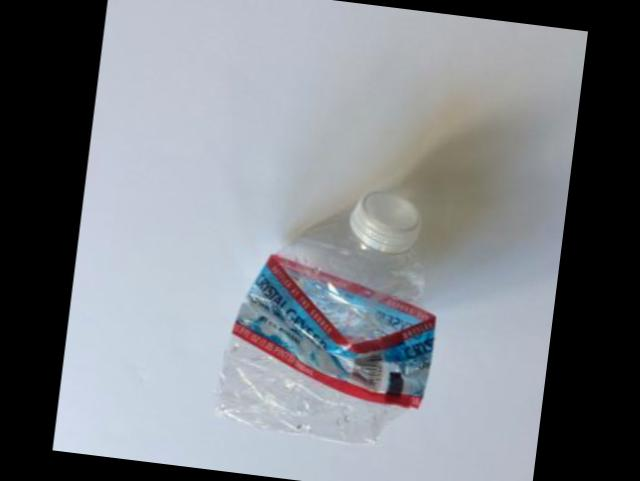plastic: (214, 193, 433, 446)
